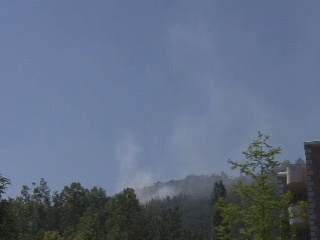smoke: (114, 132, 220, 203)
